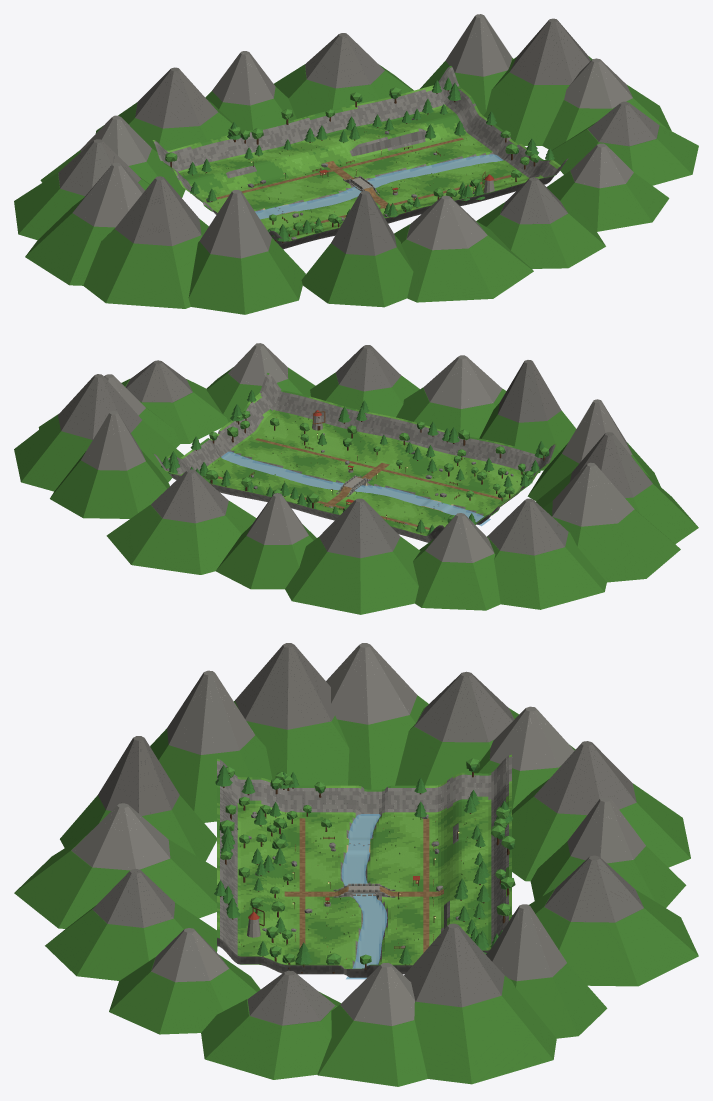
File: valley.glb
3 views of the same model, one above another, from view 1: azimuth 30°, elevation 25°; view 2: azimuth 150°, elevation 25°; view 3: azimuth 270°, elevation 25° (orthographic). The views are drawn at different scales.
Visible parts, largest first — view 1: ground, mountain_09, mountain_10, mountain_12, mountain_11, mountain_01, mountain_13, mountain_08, mountain_15, mountain_14, mountain_03, mountain_05 (+6 smaller); view 2: ground, mountain_05, mountain_03, mountain_07, mountain_08, mountain_01, mountain_02, mountain_06, mountain_04, mountain_12, mountain_11, mountain_09 (+6 smaller); view 3: ground, mountain_01, mountain_03, mountain_12, mountain_05, mountain_09, mountain_15, mountain_13, mountain_14, mountain_00, mountain_10, mountain_08 (+6 smaller).
Boxes of the visible parts, left/top/right/bottom form: ground: left=152, top=66, right=569, bottom=249; mountain_09: left=83, top=176, right=208, bottom=308; mountain_10: left=188, top=190, right=305, bottom=314; mountain_12: left=394, top=195, right=533, bottom=302; mountain_11: left=301, top=191, right=413, bottom=307; mountain_01: left=483, top=18, right=592, bottom=145; mountain_13: left=477, top=177, right=605, bottom=268; mountain_08: left=25, top=162, right=144, bottom=285; mountain_15: left=546, top=101, right=698, bottom=185; mountain_14: left=547, top=143, right=669, bottom=231; mountain_03: left=274, top=33, right=413, bottom=118; mountain_05: left=95, top=67, right=242, bottom=151; ground: left=152, top=373, right=556, bottom=542; mountain_05: left=285, top=498, right=420, bottom=614; mountain_03: left=106, top=469, right=256, bottom=574; mountain_07: left=487, top=498, right=606, bottom=609; mountain_08: left=543, top=462, right=680, bottom=582; mountain_01: left=14, top=374, right=183, bottom=491; mountain_02: left=50, top=411, right=169, bottom=518; mountain_06: left=413, top=513, right=500, bottom=610; mountain_04: left=216, top=493, right=316, bottom=589; mountain_12: left=396, top=355, right=506, bottom=438; mountain_11: left=479, top=360, right=576, bottom=470; mountain_09: left=536, top=432, right=698, bottom=543; ground: left=217, top=754, right=511, bottom=977; mountain_01: left=404, top=923, right=556, bottom=1084; mountain_03: left=512, top=855, right=698, bottom=986; mountain_12: left=14, top=803, right=216, bottom=928; mountain_05: left=512, top=741, right=690, bottom=881; mountain_09: left=234, top=643, right=349, bottom=785; mountain_15: left=201, top=970, right=340, bottom=1079; mountain_13: left=45, top=869, right=217, bottom=980; mountain_14: left=109, top=928, right=260, bottom=1034; mountain_00: left=317, top=963, right=427, bottom=1086; mountain_10: left=150, top=670, right=272, bottom=822; mountain_08: left=326, top=643, right=428, bottom=789.
Bounding box in the file's own units: 304 × 42.86 × 232.
2 materials, 1 textured.
